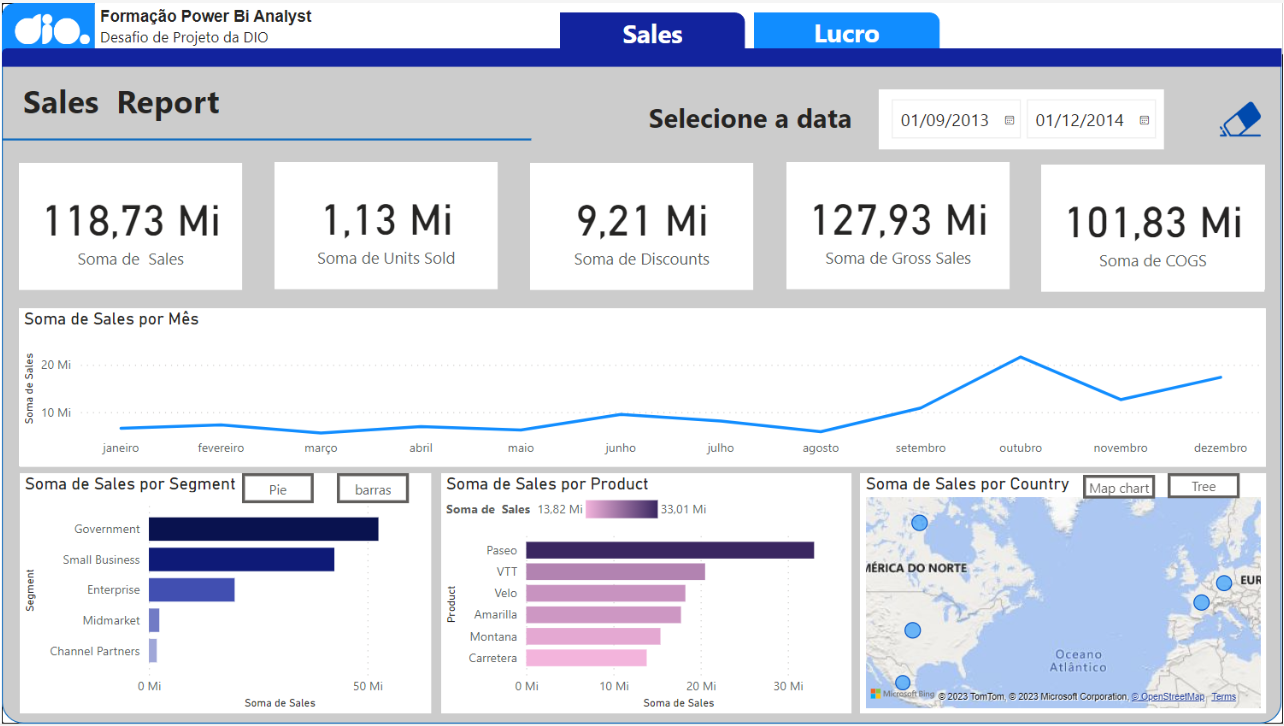

Layout of this report page (visuals, bound fields, positions):
{"tool":"powerbi","page":{"name":"Página 1","canvas":[1280,720],"ordinal":0},"visuals":[{"type":"shape","box":[0,0,1278.9,720],"z":0},{"type":"shape","box":[17.4,160.5,222.2,125.3],"z":0,"group":"g1"},{"type":"shape","box":[0,0,93,50.8],"z":1000},{"type":"shape","box":[273.3,160.5,222.2,125.3],"z":1000,"group":"g1"},{"type":"image","title":"dio","box":[0,5.7,101.4,39.5],"z":2000},{"type":"shape","box":[529.2,160.5,222.2,125.3],"z":2000,"group":"g1"},{"type":"shape","box":[356.9,29.2,185.4,21.5],"z":3000},{"type":"shape","box":[785.1,160.5,222.2,125.3],"z":3000,"group":"g1"},{"type":"textbox","box":[93.1,0,1186.9,50.8],"z":4000},{"type":"shape","box":[1041,161.4,222.2,125.3],"z":4000,"group":"g1"},{"type":"shape","box":[751.4,9.3,185.7,40],"z":5000},{"type":"shape","box":[557.9,9.3,185,40],"z":6000},{"type":"textbox","box":[16.4,70,222.9,57.9],"z":7000},{"type":"shape","box":[0,127.9,529.3,16.4],"z":8000},{"type":"group","id":"g1","title":"Cartões","box":[17.4,160.5,1245.2,125.7],"z":9000},{"type":"shape","box":[17.7,305.4,1245.4,157.7],"z":10000},{"type":"shape","box":[0,45.2,1279.2,18.5],"z":11000},{"type":"shape","box":[17.8,470,411.1,240],"z":12000},{"type":"shape","box":[857.8,470,405.6,240],"z":13000},{"type":"image","title":"clear","box":[1211.7,90.6,52.2,51.1],"z":14000,"group":"g2"},{"type":"shape","box":[438.9,470,410,240],"z":14000},{"type":"lineChart","fields":{"Y":["Sum(financials. Sales)"],"Category":["financials.Date.Variation.Hierarquia de datas.Mês"]},"box":[16.7,305,1245.8,157.5],"z":15000},{"type":"clusteredBarChart","fields":{"Y":["Sum(financials. Sales)"],"Category":["financials.Segment"]},"box":[17.8,470,411.1,240],"z":16000},{"type":"clusteredBarChart","fields":{"Y":["Sum(financials. Sales)"],"Category":["financials.Product"]},"box":[438.9,470,410,240],"z":17000},{"type":"group","id":"g2","title":"filtro por data","box":[641.7,86.7,621.7,106.7],"z":18000},{"type":"card","fields":{"Values":["Sum(financials. Sales)"]},"box":[16.7,160,223.3,126.7],"z":19000},{"type":"card","fields":{"Values":["Sum(financials.Discounts)"]},"box":[527.8,160,223.3,126.7],"z":20000},{"type":"card","fields":{"Values":["Sum(financials.Units Sold)"]},"box":[272.2,158.9,223.3,126.7],"z":21000},{"type":"card","fields":{"Values":["Sum(financials.COGS)"]},"box":[1038.9,161.1,223.3,126.7],"z":22000},{"type":"slicer","fields":{"Values":["financials.Date"]},"box":[876.7,86.7,285,60],"z":23000,"group":"g2"},{"type":"card","fields":{"Values":["Sum(financials.Gross Sales)"]},"box":[784.4,158.9,223.3,126.7],"z":23000},{"type":"textbox","box":[641.7,90.6,235.6,45.6],"z":24000,"group":"g2"},{"type":"actionButton","box":[1210,141.7,53.3,51.7],"z":25000,"group":"g2"},{"type":"map","fields":{"Size":["Sum(financials. Sales)"],"Category":["financials.Country"]},"box":[858.3,470,405,240],"z":25000},{"type":"actionButton","title":"Botão treemap","box":[1164.7,470,72.1,25.3],"z":27000},{"type":"actionButton","title":"Botão map","box":[1080,471.1,72.1,23.7],"z":28000},{"type":"actionButton","title":"Botão barras","box":[335,470,72,30],"z":29000},{"type":"actionButton","title":"Botão pie","box":[240,470,71.7,30],"z":30000},{"type":"actionButton","box":[556.7,9.3,186.7,36.7],"z":31000},{"type":"actionButton","box":[750.7,8.7,186.7,36.7],"z":32000}]}

Visuals, with their boxes in screenshot pixels (x1, y1, x2, y2), scaled from the page's 1280x720 canvas onto the 1284x726 screenshot:
shape: detection(0, 0, 1283, 725)
shape: detection(17, 162, 240, 288)
shape: detection(0, 0, 93, 51)
shape: detection(274, 162, 497, 288)
"dio" image: detection(0, 6, 102, 46)
shape: detection(531, 162, 754, 288)
shape: detection(358, 29, 544, 51)
shape: detection(788, 162, 1010, 288)
textbox: detection(93, 0, 1283, 51)
shape: detection(1044, 163, 1267, 289)
shape: detection(754, 9, 940, 50)
shape: detection(560, 9, 745, 50)
textbox: detection(16, 71, 240, 129)
shape: detection(0, 129, 531, 146)
"Cartões" group: detection(17, 162, 1267, 289)
shape: detection(18, 308, 1267, 467)
shape: detection(0, 46, 1283, 64)
shape: detection(18, 474, 430, 716)
shape: detection(860, 474, 1267, 716)
"clear" image: detection(1215, 91, 1268, 143)
shape: detection(440, 474, 852, 716)
lineChart - Sum(financials. Sales) x financials.Date.Variation.Hierarquia de datas.Mês: detection(17, 308, 1266, 466)
clusteredBarChart - Sum(financials. Sales) x financials.Segment: detection(18, 474, 430, 716)
clusteredBarChart - Sum(financials. Sales) x financials.Product: detection(440, 474, 852, 716)
"filtro por data" group: detection(644, 87, 1267, 195)
card - Sum(financials. Sales): detection(17, 161, 241, 289)
card - Sum(financials.Discounts): detection(529, 161, 753, 289)
card - Sum(financials.Units Sold): detection(273, 160, 497, 288)
card - Sum(financials.COGS): detection(1042, 162, 1266, 290)
slicer - financials.Date: detection(879, 87, 1165, 148)
card - Sum(financials.Gross Sales): detection(787, 160, 1011, 288)
textbox: detection(644, 91, 880, 137)
actionButton: detection(1214, 143, 1267, 195)
map - Sum(financials. Sales) x financials.Country: detection(861, 474, 1267, 716)
"Botão treemap" actionButton: detection(1168, 474, 1241, 499)
"Botão map" actionButton: detection(1083, 475, 1156, 499)
"Botão barras" actionButton: detection(336, 474, 408, 504)
"Botão pie" actionButton: detection(241, 474, 313, 504)
actionButton: detection(558, 9, 746, 46)
actionButton: detection(753, 9, 940, 46)
